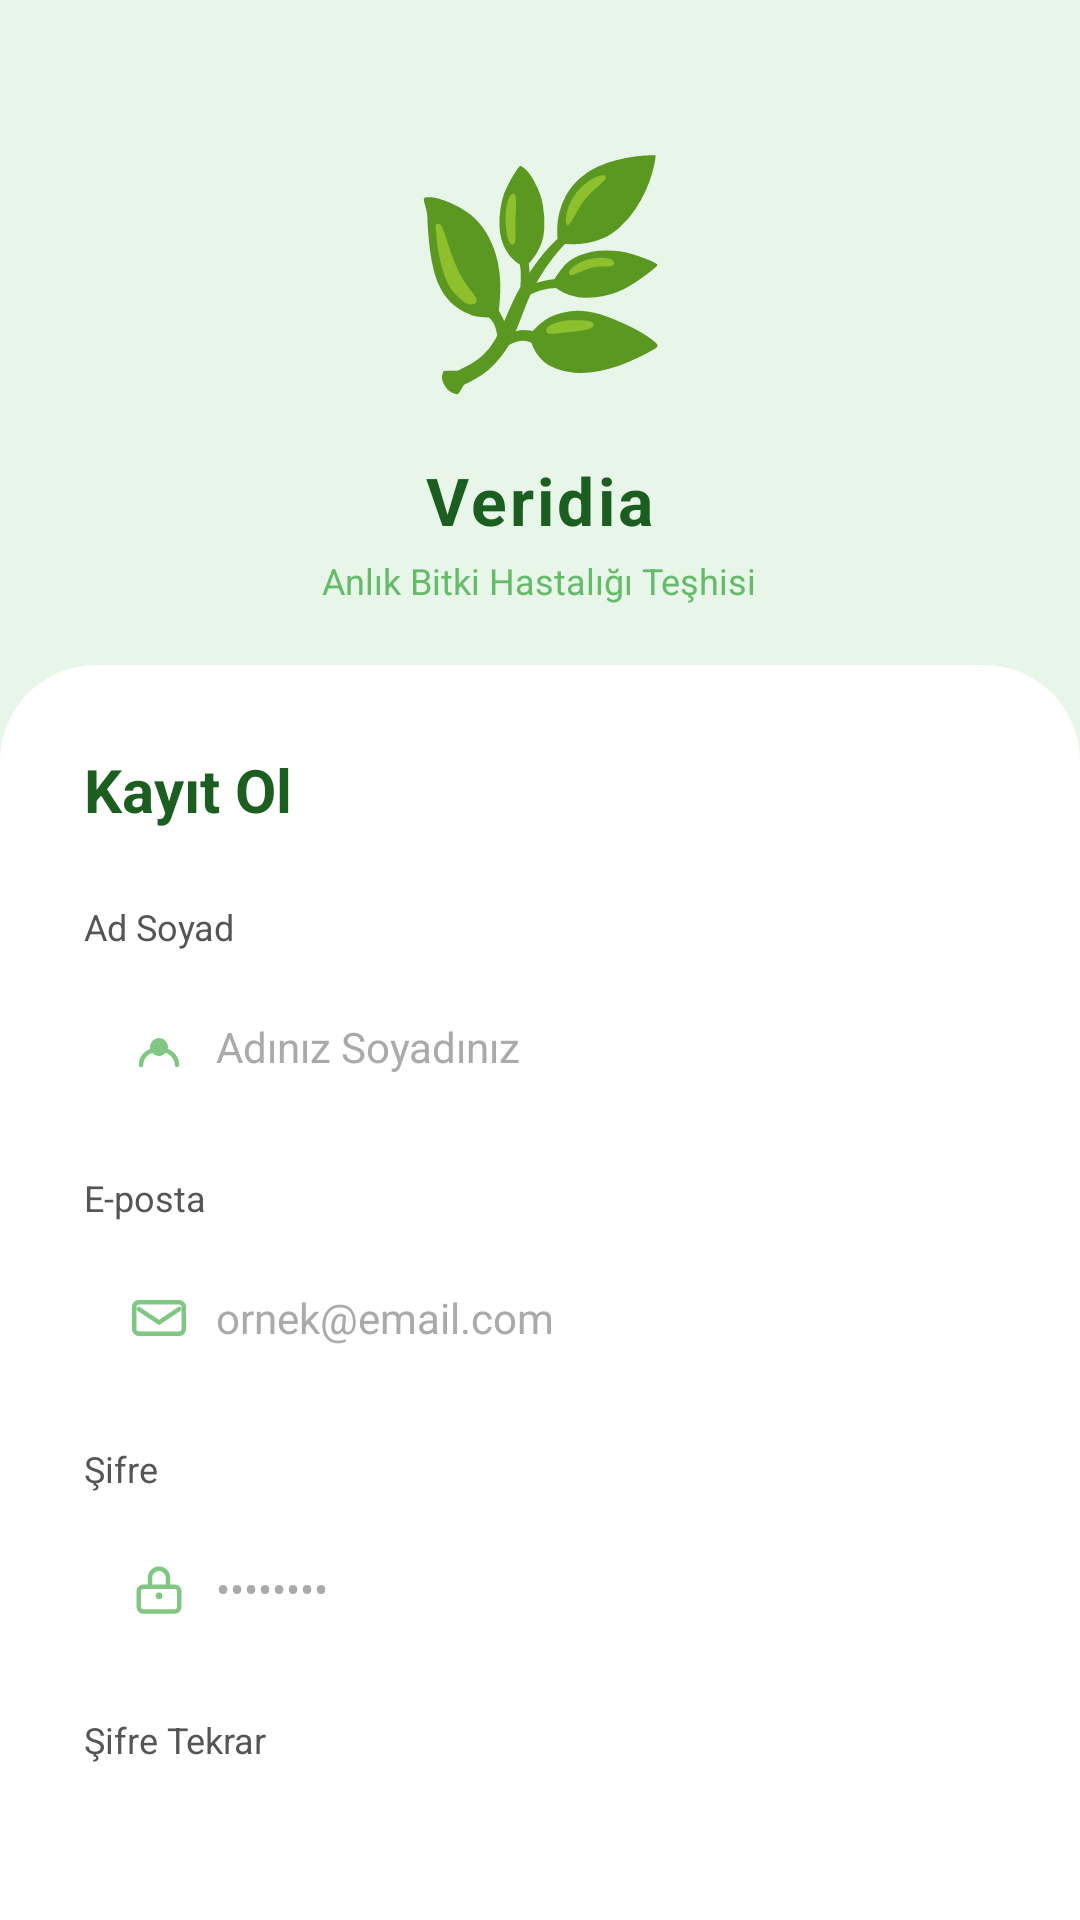

Icon bounding boxes for this 1080x1920 phone screenshot, format (x1, y1, x2, y2):
lock: (136, 1566, 182, 1614)
person: (138, 1038, 180, 1067)
